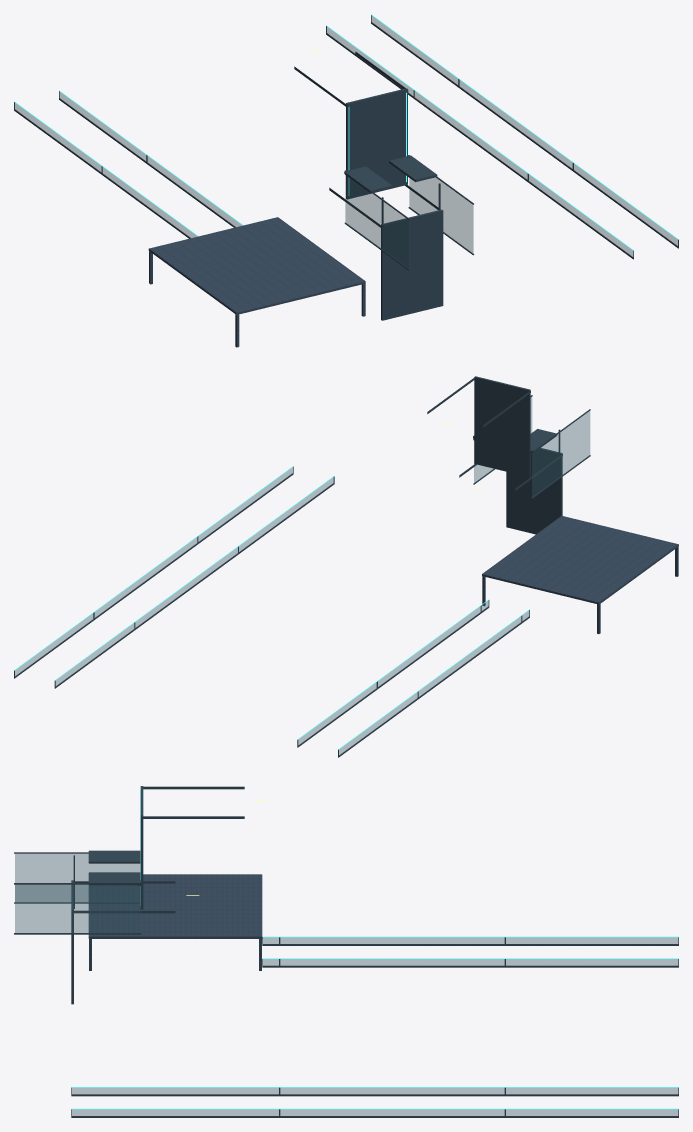
File: service-tower-replacement-0.glb
3 renders of one model, top to bottom at view 1: azimuth 30°, elevation 25°; view 2: azimuth 150°, elevation 25°; view 3: azimuth 270°, elevation 25°, orthographic. The views are drawn at different scales.
Parts seen in each view (by area): view 1: service-tower-replacement-0; view 2: service-tower-replacement-0; view 3: service-tower-replacement-0.
Boxes of the visible parts, bbox=[...] form: service-tower-replacement-0: bbox=[14, 14, 678, 347]; service-tower-replacement-0: bbox=[14, 376, 678, 757]; service-tower-replacement-0: bbox=[14, 786, 678, 1117].
Bounding box in the file's own units: 56.99 × 24 × 76.6.
Materials: 5 (1 with a texture image).
